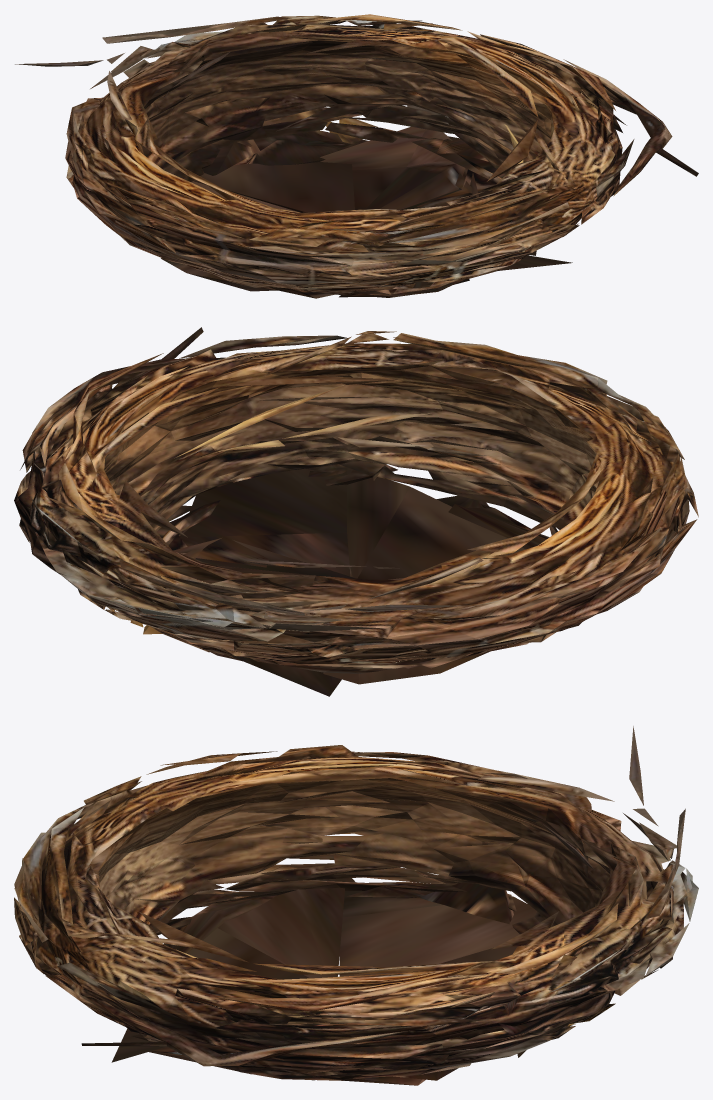
The picture shows the model from 3 angles, top to bottom: view 1: azimuth 30°, elevation 25°; view 2: azimuth 150°, elevation 25°; view 3: azimuth 270°, elevation 25°; orthographic projection. The views are drawn at different scales.
Visible parts, largest first — view 1: meshes[0]_1; view 2: meshes[0]_1; view 3: meshes[0]_1.
Boxes of the visible parts, box(x1,y1,x2,y2) form: meshes[0]_1: box(15, 14, 698, 298); meshes[0]_1: box(14, 327, 698, 696); meshes[0]_1: box(14, 726, 698, 1085).
Size of the model in its own units: 0.9673 by 0.2442 by 0.9313.
Materials: 1 (1 with a texture image).
